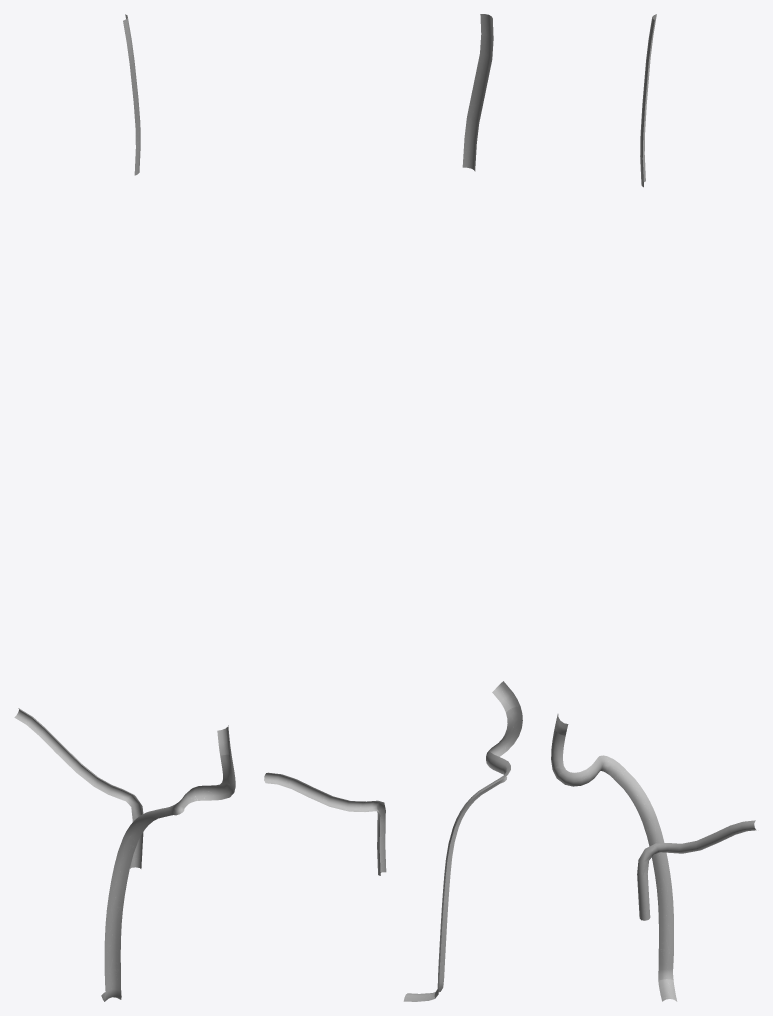
Rendered from field_spring_pipe_scar.fbx.
3 renders of one model, left to right at view 1: azimuth 90°, elevation 25°; view 2: azimuth 150°, elevation 25°; view 3: azimuth 270°, elevation 25°, orthographic. The views are drawn at different scales.
Visible parts, largest first — view 1: field_spring_pipe_scar1, field_spring_pipe_scar3, field_spring_pipe_scar2; view 2: field_spring_pipe_scar1, field_spring_pipe_scar2, field_spring_pipe_scar3; view 3: field_spring_pipe_scar1, field_spring_pipe_scar3, field_spring_pipe_scar2.
Part boxes in pixels (box(x1,y1,x2,y2)): field_spring_pipe_scar1: box(101, 725, 235, 1001); field_spring_pipe_scar3: box(14, 708, 143, 868); field_spring_pipe_scar2: box(123, 14, 140, 175); field_spring_pipe_scar1: box(403, 681, 522, 1001); field_spring_pipe_scar2: box(462, 14, 493, 171); field_spring_pipe_scar3: box(264, 772, 386, 875); field_spring_pipe_scar1: box(551, 714, 677, 1001); field_spring_pipe_scar3: box(637, 820, 756, 920); field_spring_pipe_scar2: box(640, 14, 656, 187).
Size of the model in its own units: 500 by 2680 by 531.
1 material, 1 textured.
